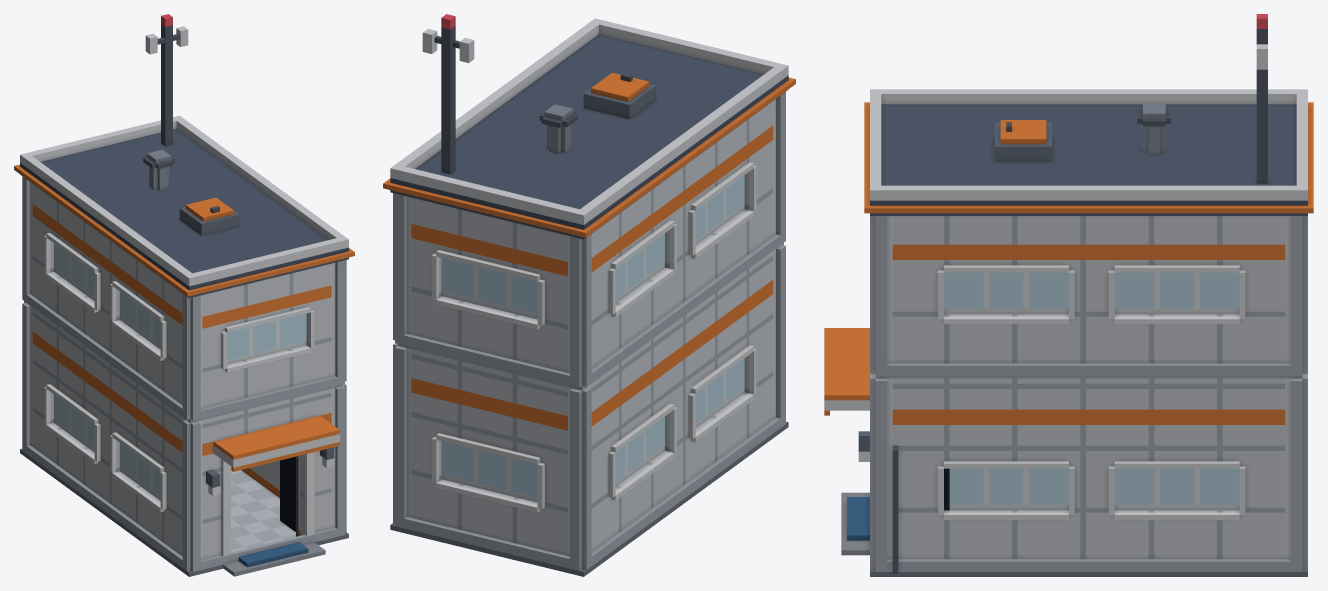
File: lab_e3_l3.glb
3 renders of one model, left to right at view 1: azimuth 30°, elevation 25°; view 2: azimuth 150°, elevation 25°; view 3: azimuth 270°, elevation 25°, orthographic. The views are drawn at different scales.
Visible parts, largest first — view 1: CutUpper, Base, CutNX, CutPZ, CutNZ; view 2: CutUpper, CutNZ, CutNX, Base, CutPZ; view 3: CutUpper, CutPX, Base, CutPZ, CutNZ.
Part boxes in pixels (x1=…): CutUpper: x1=14, y1=14, x2=354, y2=422; Base: x1=20, y1=415, x2=348, y2=576; CutNX: x1=32, y1=308, x2=184, y2=528; CutPZ: x1=182, y1=384, x2=346, y2=535; CutNZ: x1=22, y1=301, x2=32, y2=418; CutUpper: x1=383, y1=14, x2=795, y2=390; CutNZ: x1=393, y1=343, x2=591, y2=527; CutNX: x1=590, y1=251, x2=773, y2=517; Base: x1=390, y1=381, x2=788, y2=576; CutPZ: x1=773, y1=243, x2=785, y2=385; CutUpper: x1=864, y1=14, x2=1313, y2=378; CutPX: x1=892, y1=378, x2=1285, y2=522; Base: x1=841, y1=468, x2=1307, y2=576; CutPZ: x1=824, y1=328, x2=898, y2=527; CutNZ: x1=1285, y1=373, x2=1307, y2=525.
Bounding box in the file's own units: 4.4 × 10.5 × 8.6.
